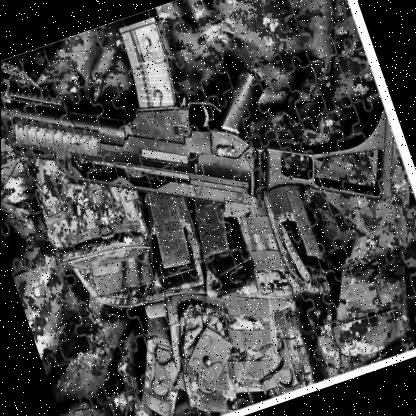rifle: (0, 0, 411, 332)
